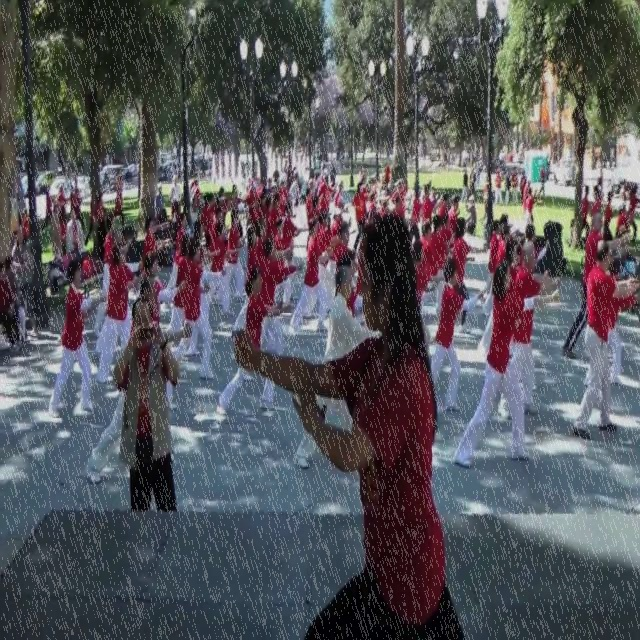pessoa: (232, 210, 466, 640), (450, 255, 560, 471), (84, 274, 194, 484), (294, 264, 383, 470), (111, 293, 180, 514), (570, 234, 640, 446), (214, 263, 298, 423), (501, 241, 562, 422), (560, 207, 630, 362), (47, 254, 109, 420), (430, 257, 487, 412), (172, 236, 226, 380), (502, 241, 550, 395), (96, 241, 140, 387), (288, 215, 334, 338), (607, 254, 639, 387), (452, 216, 488, 334), (202, 216, 242, 318), (304, 210, 341, 318), (256, 236, 304, 306), (143, 252, 186, 326), (162, 231, 192, 332), (138, 215, 173, 298), (1, 252, 30, 346), (487, 222, 513, 324), (474, 217, 502, 307), (271, 215, 293, 318), (11, 226, 35, 320), (250, 218, 292, 270), (226, 207, 248, 303), (427, 214, 447, 316), (166, 212, 188, 292), (192, 217, 221, 272), (4, 261, 22, 347), (350, 180, 368, 253), (411, 239, 431, 304), (282, 200, 306, 250), (64, 205, 85, 262), (107, 173, 126, 232), (524, 222, 551, 263), (331, 218, 353, 266), (624, 182, 640, 245), (384, 177, 406, 216), (420, 181, 440, 223), (409, 188, 424, 242), (54, 182, 68, 236), (51, 198, 63, 260), (94, 310, 110, 356), (305, 187, 316, 250), (614, 202, 633, 238), (168, 174, 182, 222), (40, 185, 54, 232), (603, 190, 615, 243), (520, 178, 534, 223), (264, 194, 282, 229), (366, 184, 384, 219), (579, 183, 590, 239), (244, 175, 264, 205), (102, 214, 114, 262), (18, 206, 34, 240), (622, 250, 640, 280), (84, 198, 95, 247), (464, 200, 478, 238), (154, 182, 166, 225), (329, 180, 346, 210), (588, 184, 602, 220), (448, 194, 460, 236), (246, 205, 264, 233), (94, 191, 108, 226), (202, 209, 224, 231), (523, 187, 535, 226), (482, 178, 492, 224), (438, 210, 452, 242), (72, 186, 84, 222), (494, 165, 504, 207), (516, 138, 530, 168), (228, 182, 243, 209), (331, 206, 344, 236), (420, 218, 432, 250), (264, 170, 280, 194), (538, 163, 548, 201), (192, 177, 201, 218), (124, 256, 144, 274), (503, 168, 512, 207), (460, 169, 470, 204), (568, 157, 578, 191), (66, 184, 76, 218), (170, 162, 182, 188), (314, 191, 326, 216), (511, 166, 519, 202), (438, 192, 451, 214), (519, 169, 527, 204), (595, 175, 605, 203), (440, 146, 450, 174), (316, 171, 330, 191), (282, 193, 294, 216), (468, 167, 476, 200), (503, 146, 515, 166), (306, 167, 316, 191), (202, 191, 216, 208), (216, 185, 226, 207), (358, 165, 368, 184), (280, 180, 292, 194), (512, 228, 524, 242), (329, 160, 337, 180), (72, 167, 80, 184), (500, 212, 509, 226), (383, 162, 391, 177), (429, 184, 435, 202), (476, 162, 480, 186), (326, 190, 330, 210), (190, 179, 194, 189)
